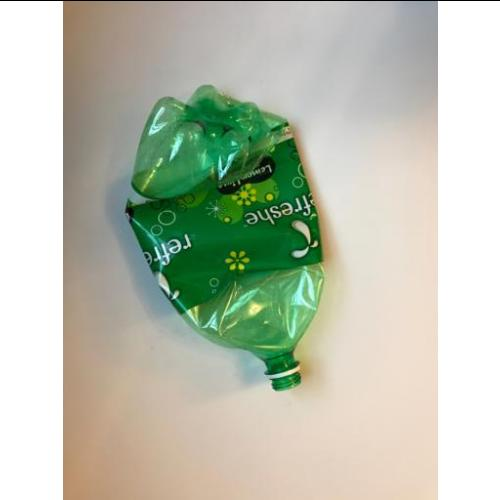plastic: (129, 85, 325, 389)
